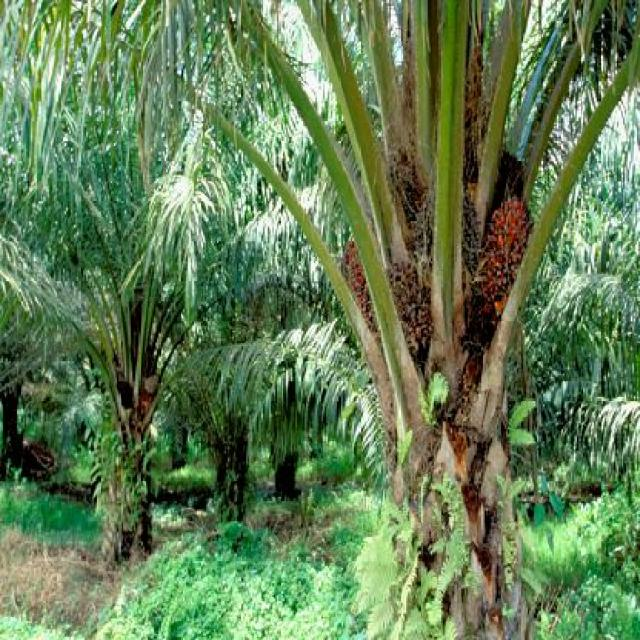palm-oil: (339, 239, 433, 359), (485, 191, 528, 307)
